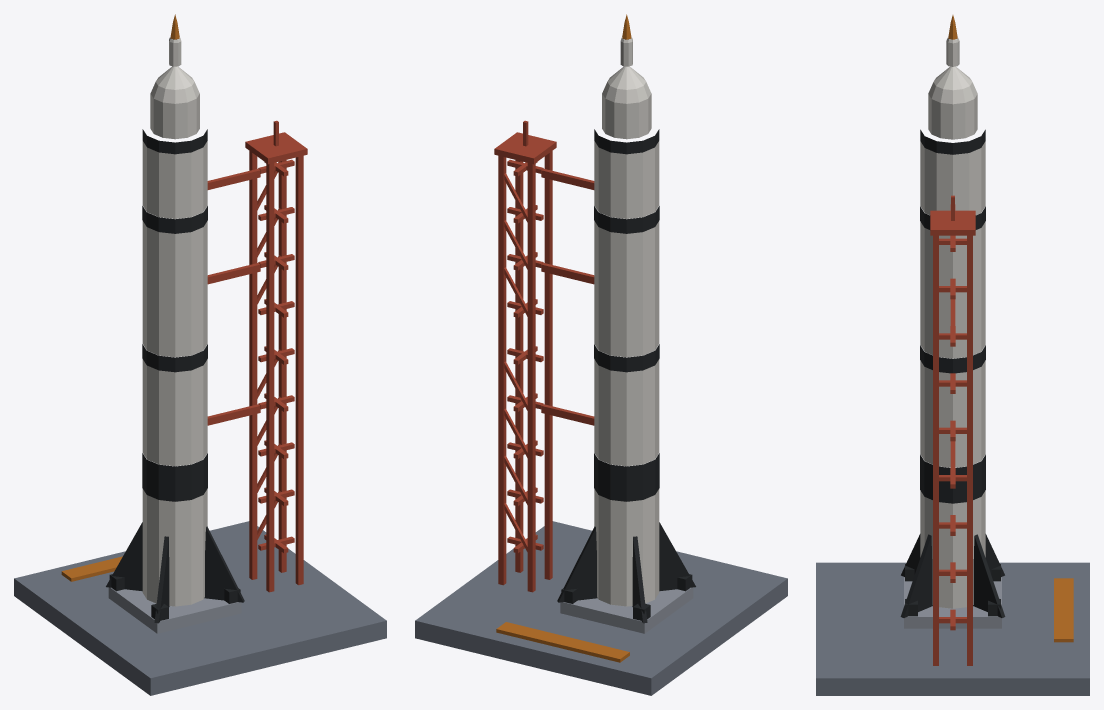
The model's file is fusee.glb.
The picture shows the model from 3 angles, left to right: view 1: azimuth 30°, elevation 25°; view 2: azimuth 150°, elevation 25°; view 3: azimuth 270°, elevation 25°; orthographic projection.
Parts seen in each view (by area): view 1: fusee; view 2: fusee; view 3: fusee.
Boxes of the visible parts, x1,y1,x2,y2 form: fusee: (14,14,386,695); fusee: (415,14,787,695); fusee: (816,15,1089,695).
Bounding box in the file's own units: 4.2 × 10.35 × 4.2.
